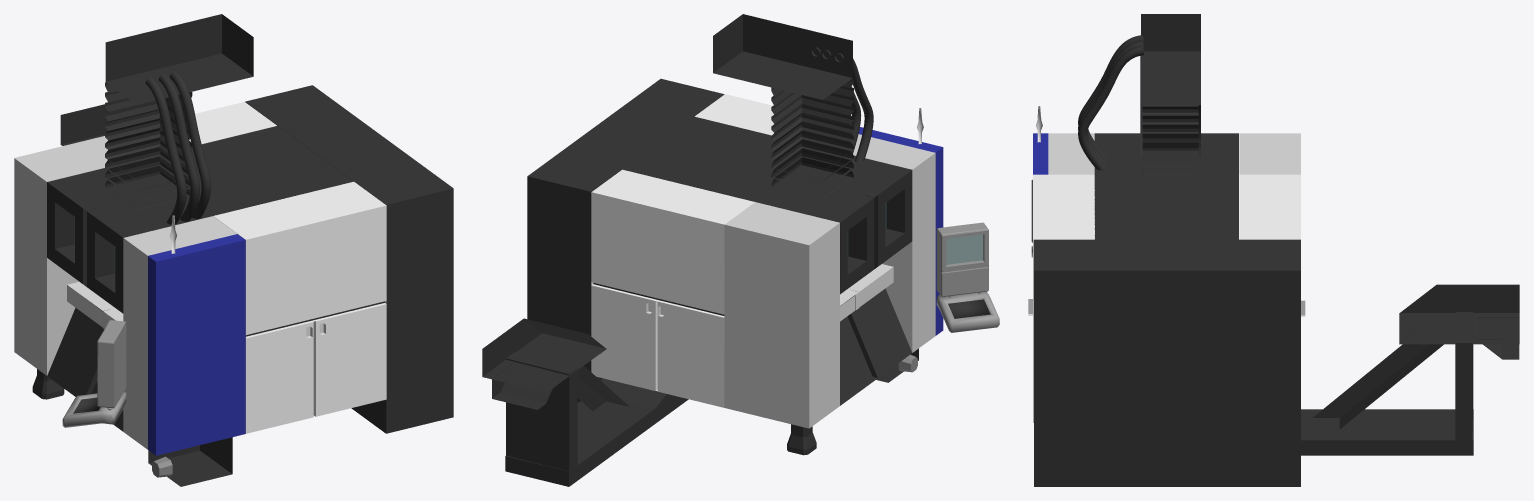
The picture shows the model from 3 angles, left to right: view 1: azimuth 30°, elevation 25°; view 2: azimuth 150°, elevation 25°; view 3: azimuth 270°, elevation 25°; orthographic projection. The views are drawn at different scales.
Parts seen in each view (by area): view 1: Cube.001; view 2: Cube.001; view 3: Cube.001.
Boxes of the visible parts, x1,y1,x2,y2 form: Cube.001: (14,14,453,486); Cube.001: (482,14,999,486); Cube.001: (1028,14,1519,486).
Size of the model in its own units: 16.65 by 16.02 by 20.04.
